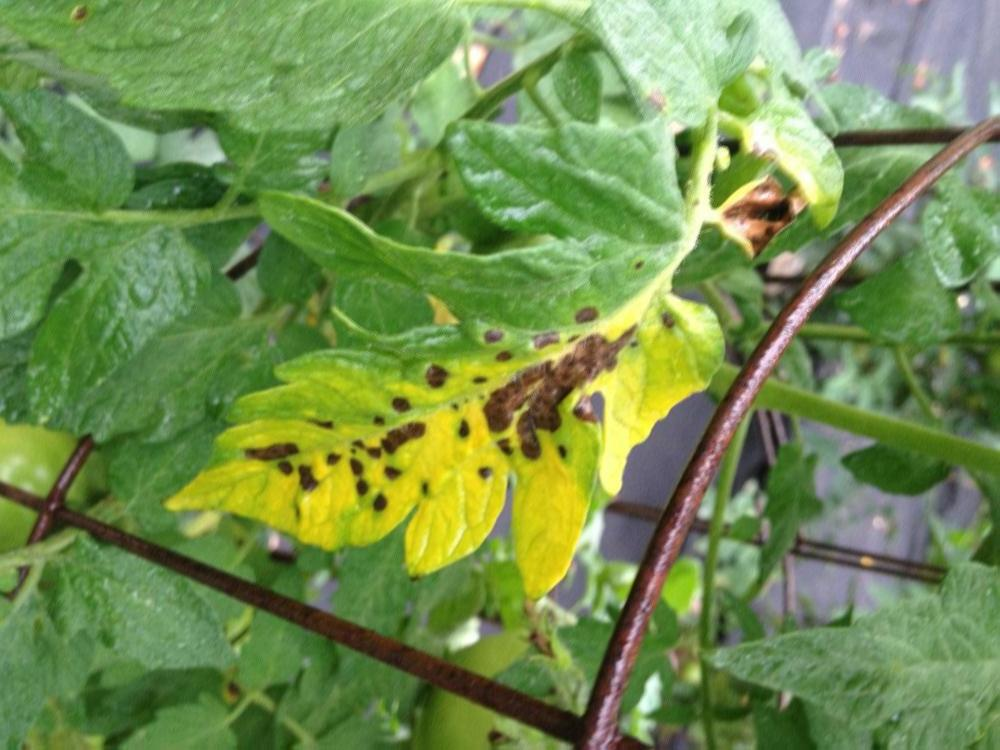Tomato leaf bacterial spot: (149, 263, 742, 604)
